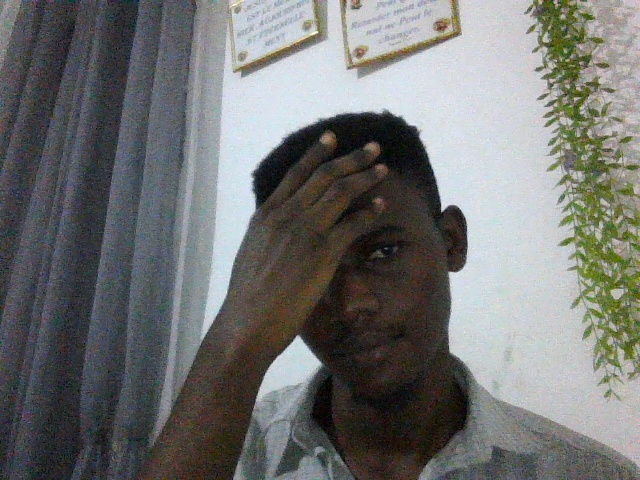hand: (224, 118, 397, 335)
